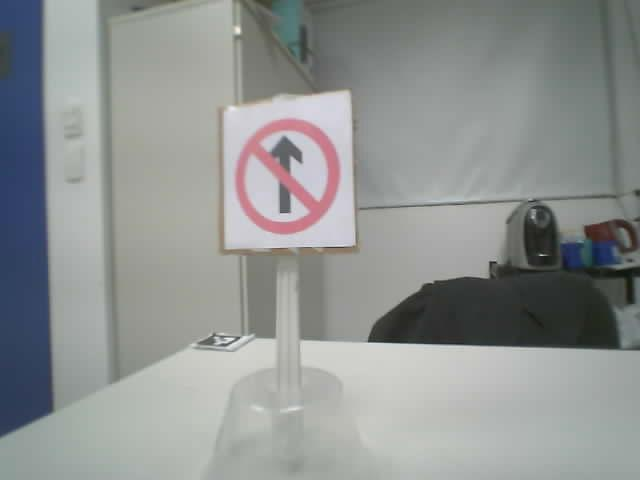R-3_sentido-proibido: (235, 117, 341, 235)
